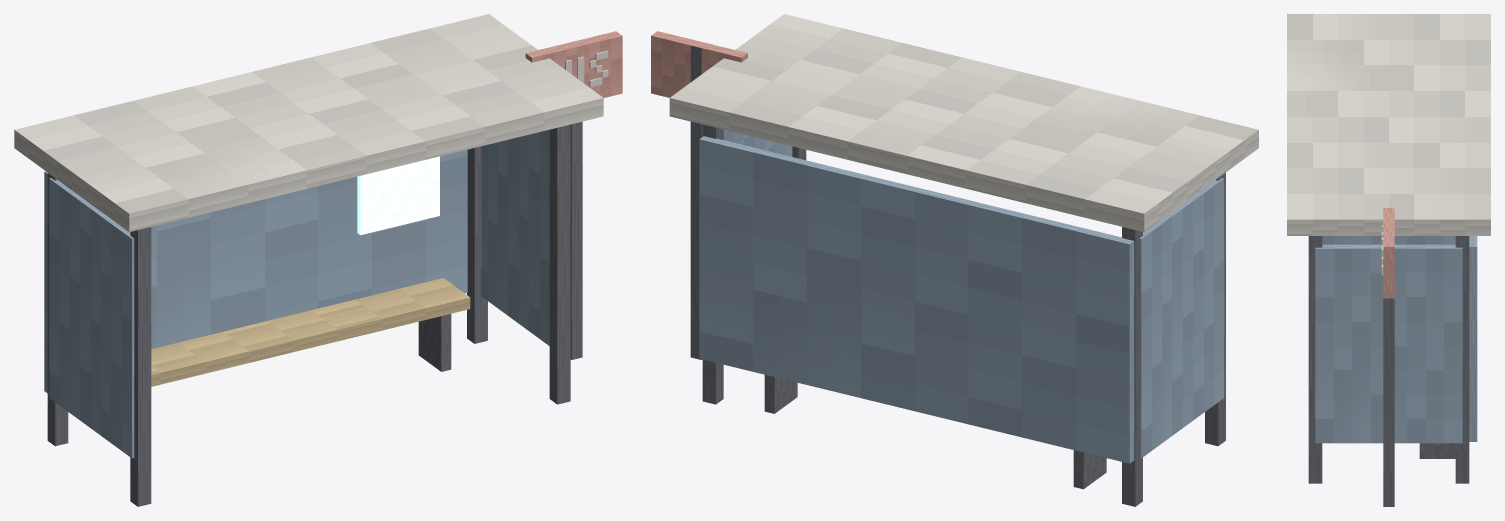
File: pixel-modern-city-street-bus-stop-shelter-fb4420f4__29035.glb
The picture shows the model from 3 angles, left to right: view 1: azimuth 30°, elevation 25°; view 2: azimuth 150°, elevation 25°; view 3: azimuth 270°, elevation 25°; orthographic projection. The views are drawn at different scales.
Parts seen in each view (by area): view 1: bus-stop-shelter; view 2: bus-stop-shelter; view 3: bus-stop-shelter.
Boxes of the visible parts, left/top/right/bottom form: bus-stop-shelter: left=14, top=14, right=622, bottom=506; bus-stop-shelter: left=651, top=14, right=1258, bottom=506; bus-stop-shelter: left=1287, top=14, right=1490, bottom=506.
Size of the model in its own units: 4.96 by 2.7 by 1.8.
6 materials, 6 textured.
